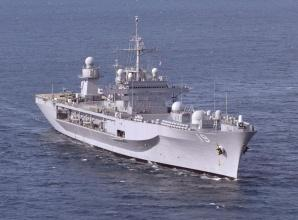warship: (34, 21, 258, 178)
